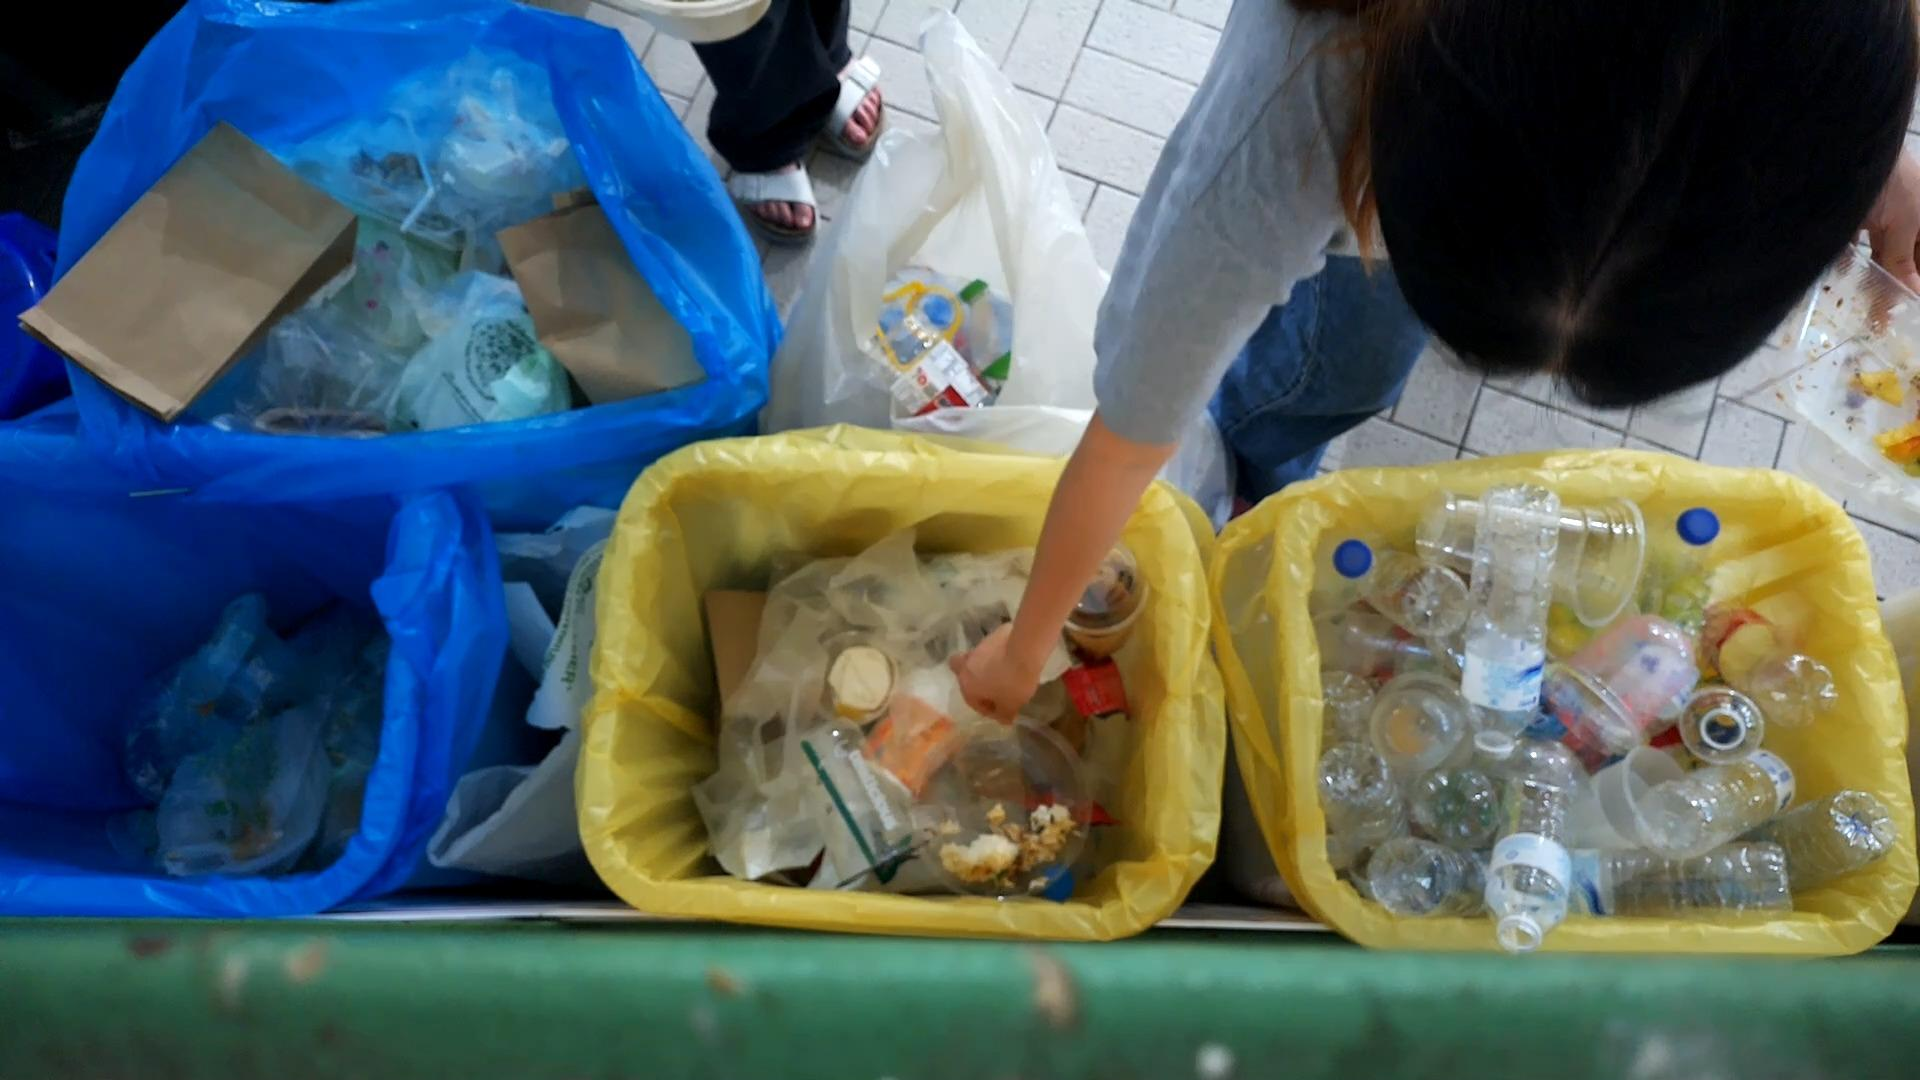dirty food container: (887, 705, 1108, 906), (1774, 222, 1920, 508), (803, 622, 906, 725)
filled plastic bag: (323, 55, 607, 239)
paper bag: (20, 123, 356, 426), (497, 203, 716, 409)
plastic bag: (748, 550, 952, 719), (382, 265, 578, 438), (145, 705, 327, 870)
plastic bottle: (1458, 472, 1556, 750), (1575, 832, 1800, 932), (1482, 745, 1584, 949), (1702, 597, 1841, 736), (1643, 750, 1809, 861), (868, 315, 1000, 431), (1764, 782, 1895, 885), (1320, 742, 1412, 862), (1365, 840, 1485, 922)
plastic cup: (1420, 480, 1656, 632), (790, 709, 932, 886), (1540, 611, 1702, 753), (1555, 745, 1688, 855), (1040, 535, 1160, 650), (1373, 670, 1476, 778)
snack packaging: (1060, 653, 1137, 731)
straw: (795, 735, 893, 876)
